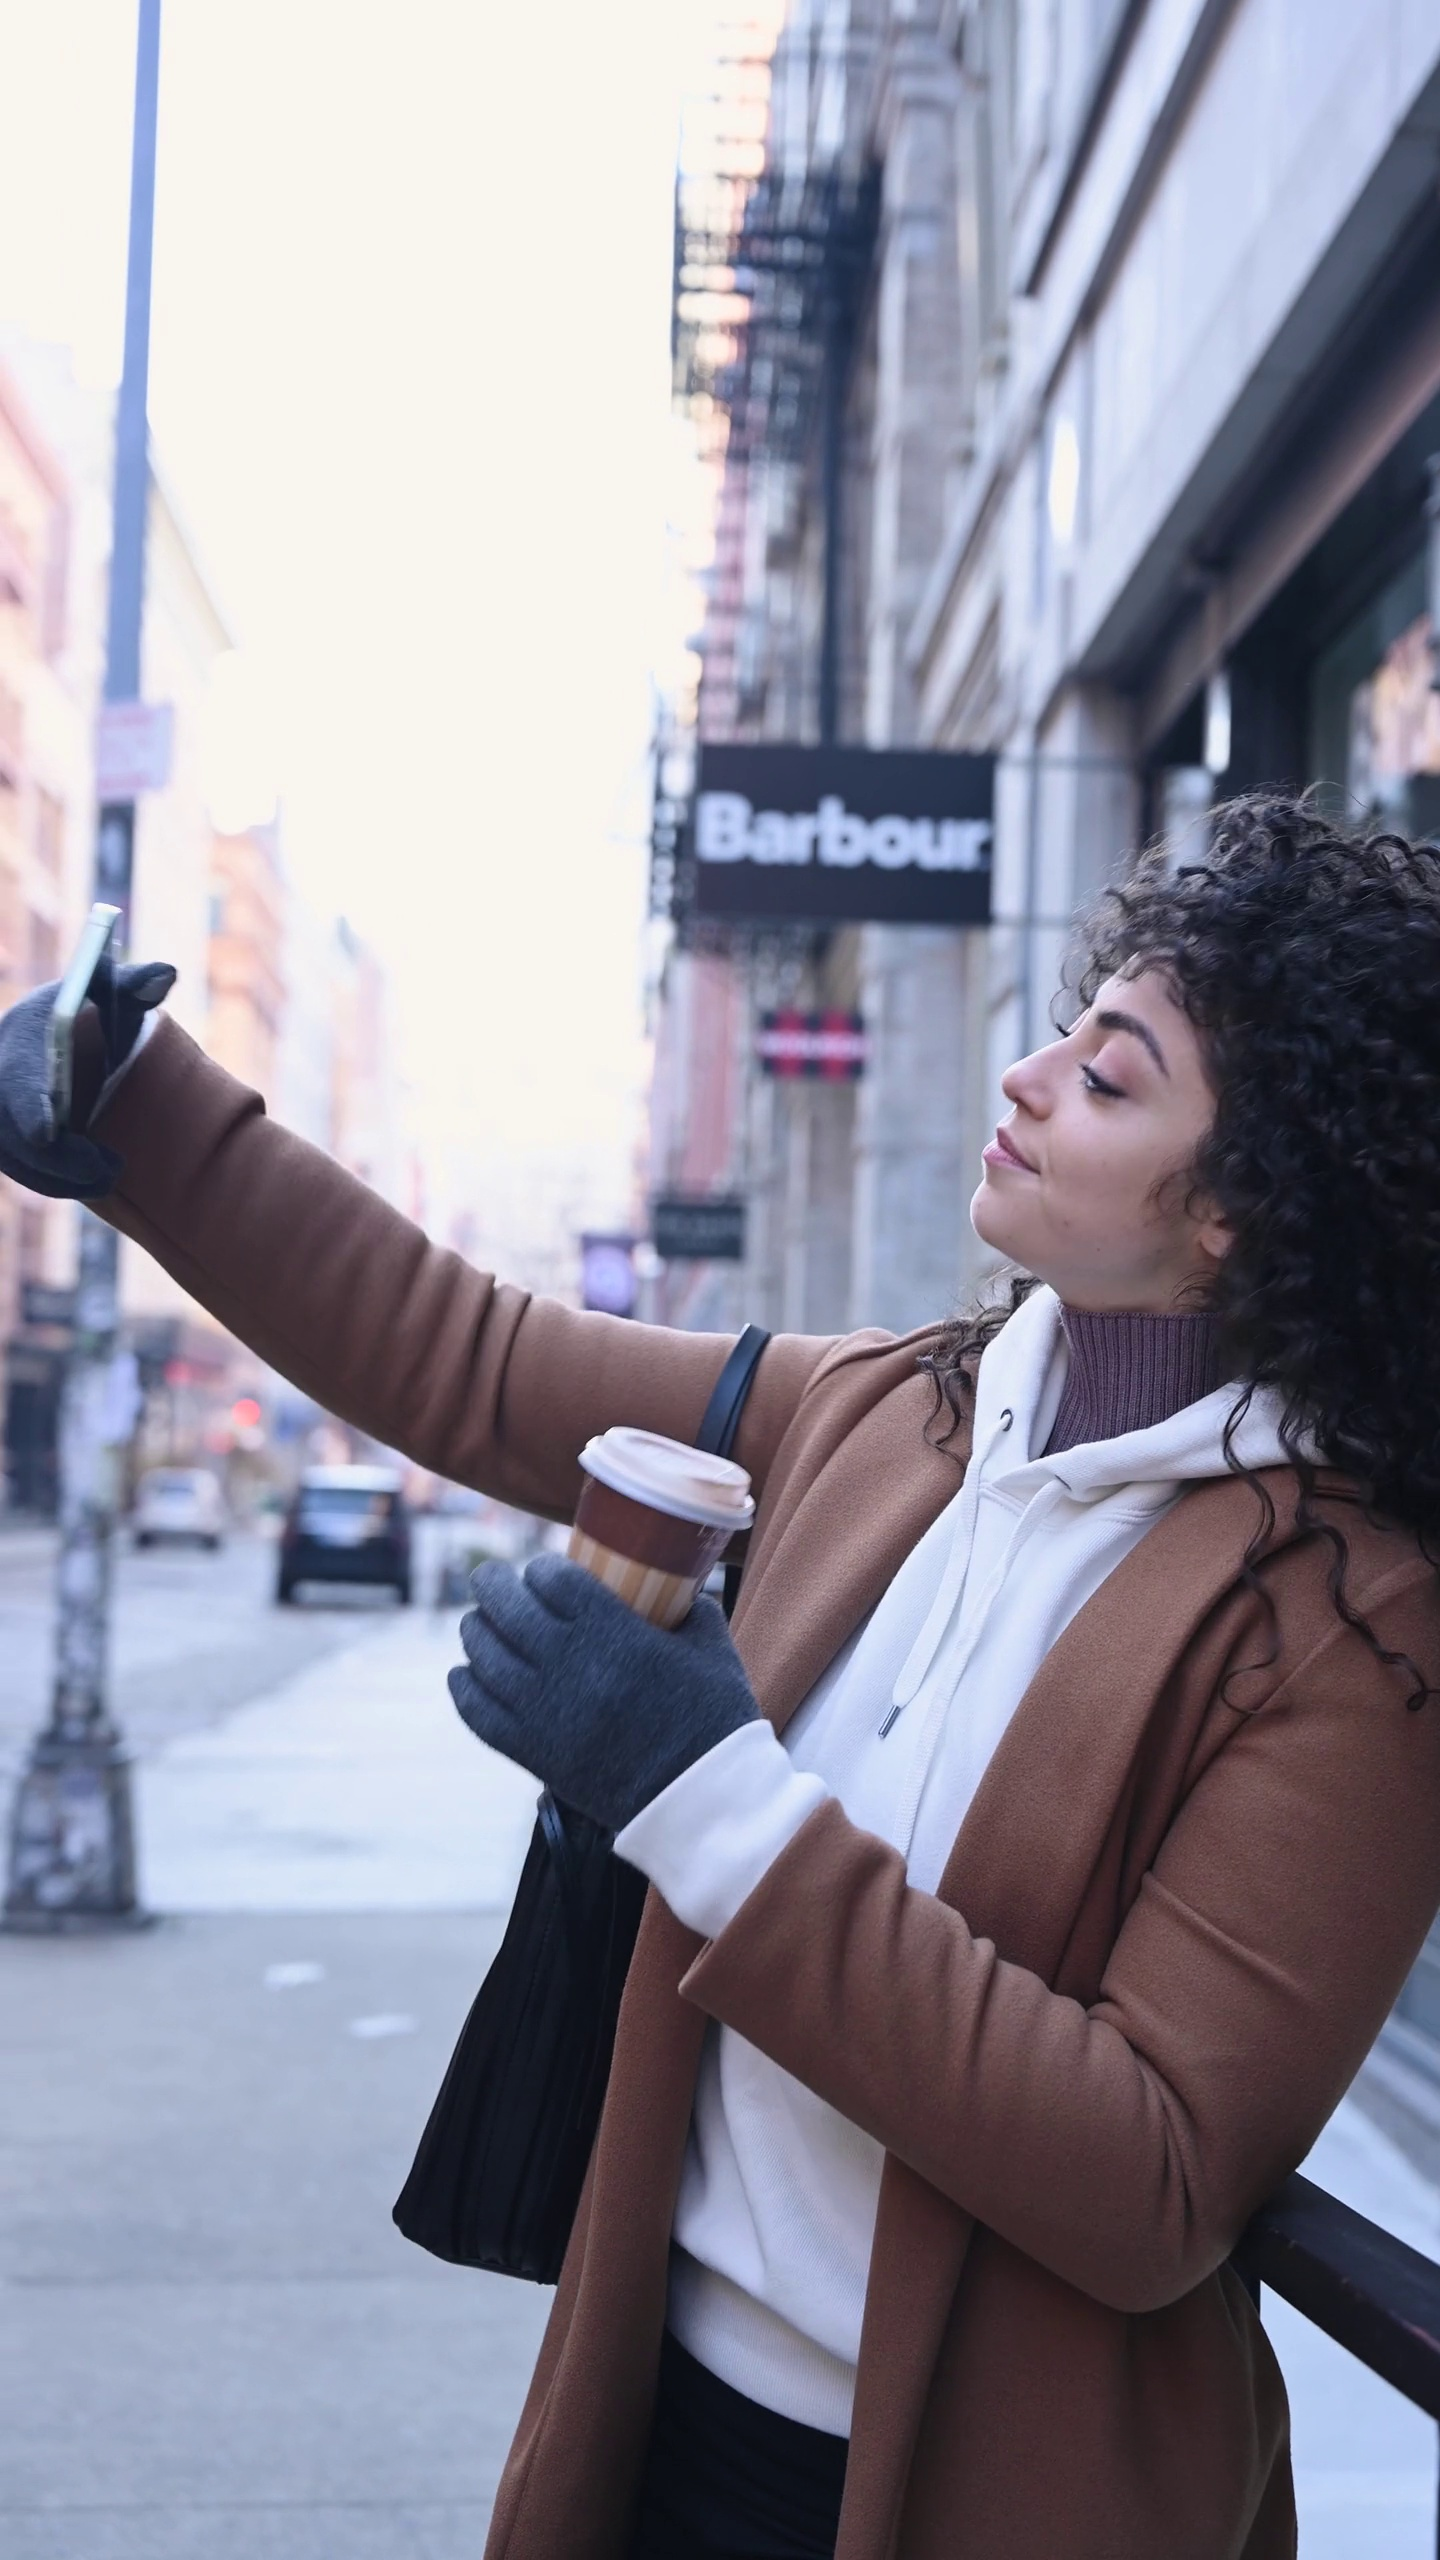phone: (32, 877, 134, 1152)
